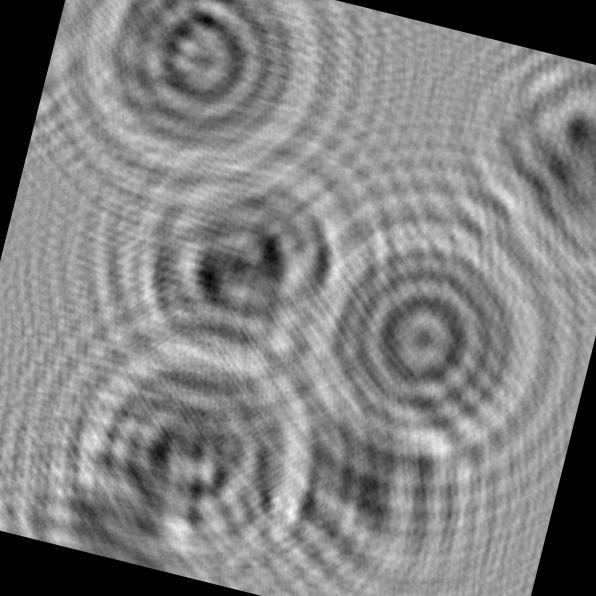G: (19, 275, 338, 589)
H: (426, 36, 596, 296)
O: (259, 175, 588, 494)
Q: (34, 0, 354, 223)
S: (84, 120, 369, 406)
V: (222, 333, 511, 596)
Y: (0, 411, 251, 586)
